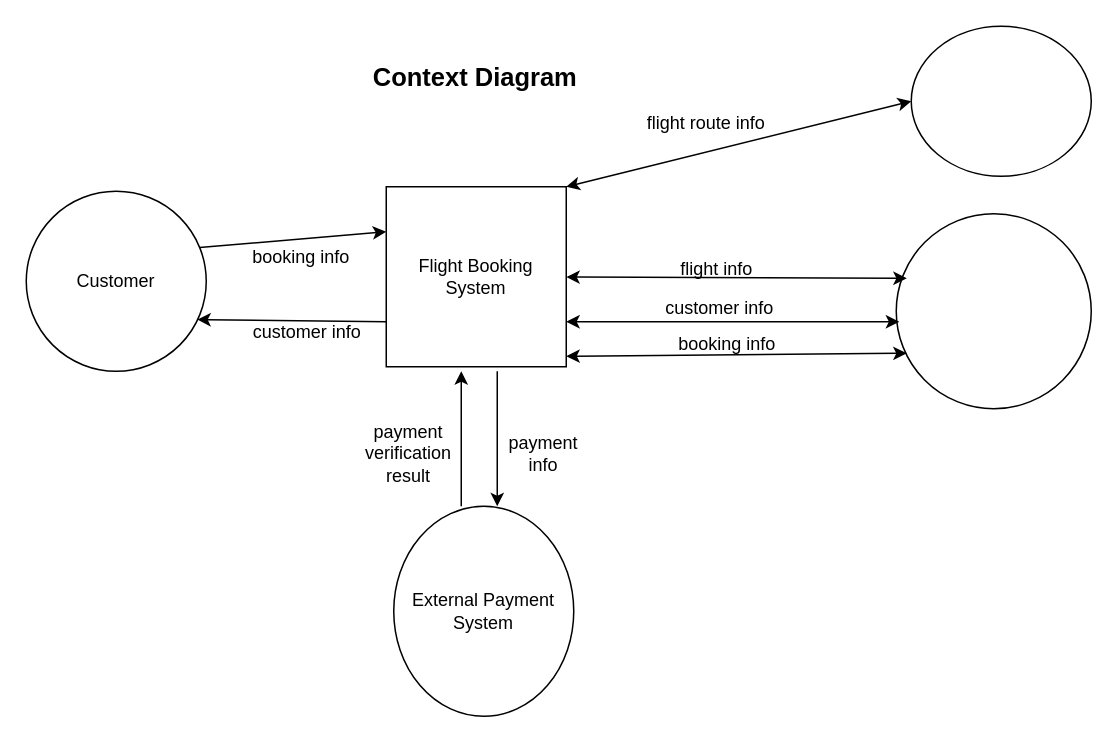
The diagram is 1118 pixels wide and 743 high, and some of its shapes have lost their labels. The shapes that lost their labels are listed below. From the top down, each one's centre as x and y in pixels, then its label:
[1000,100]: Admin
[993,310]: Agent
